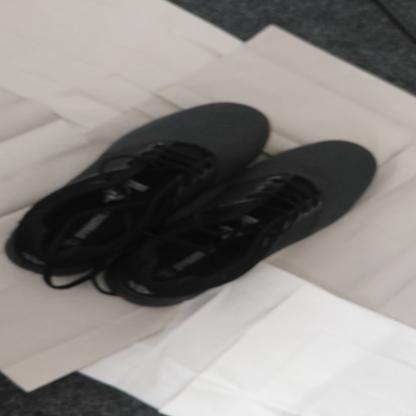safety-shoe: (4, 101, 377, 308)
